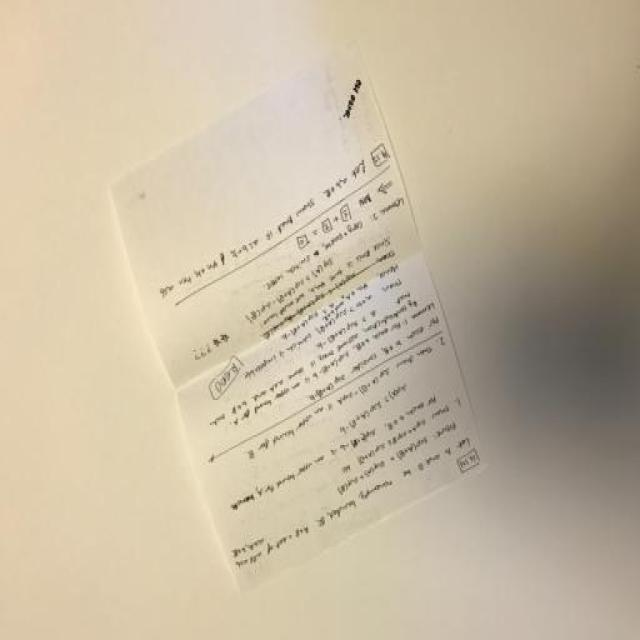paper: (106, 40, 489, 590)
